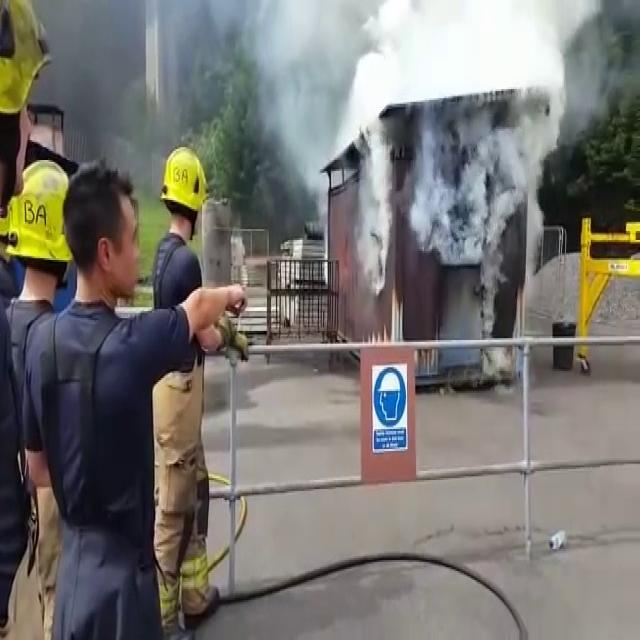Smoke: (400, 110, 550, 270), (370, 9, 624, 99)
